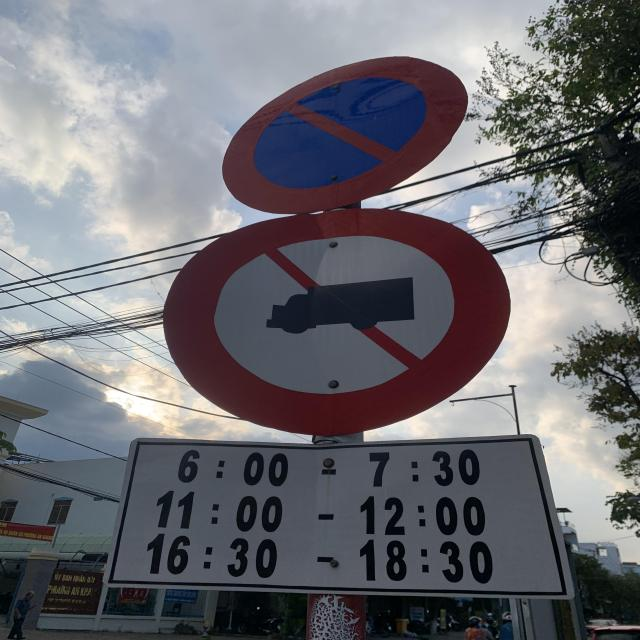Cam_Dau_Xe: (224, 56, 468, 214)
Cam_Xe_Tai: (167, 208, 509, 434)
